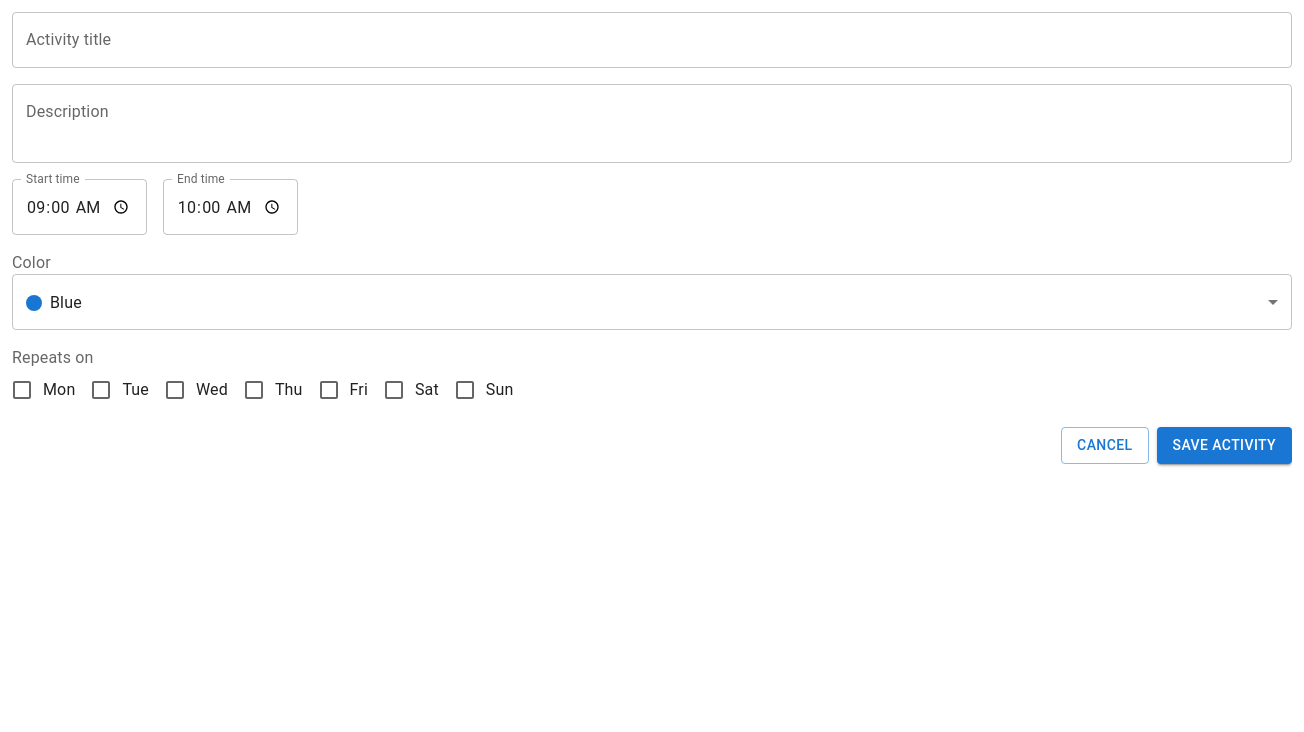
Scenario: ActivityForm › shows validation error when title is empty
Click the button "Save activity". click: (1224, 445)
box: [1156, 427, 1292, 464]
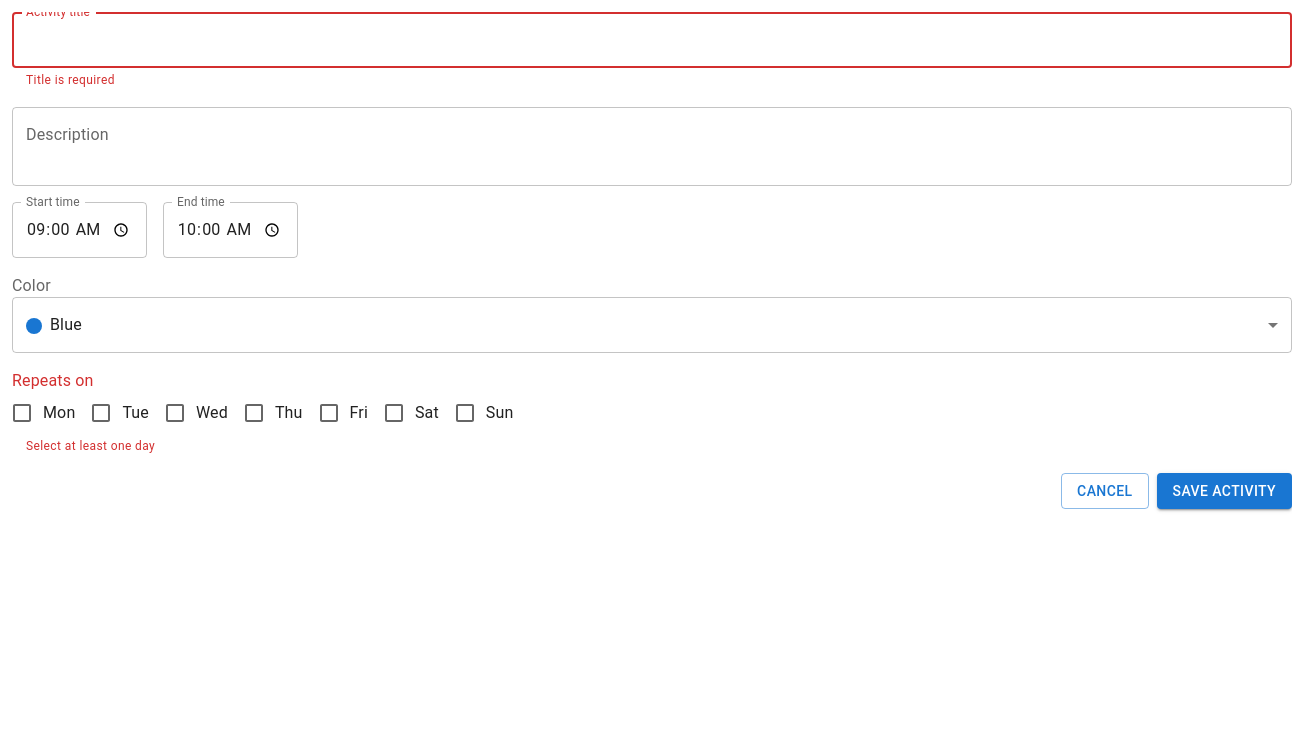
Result: the text "Title is required" is shown at [26, 73, 115, 87]
